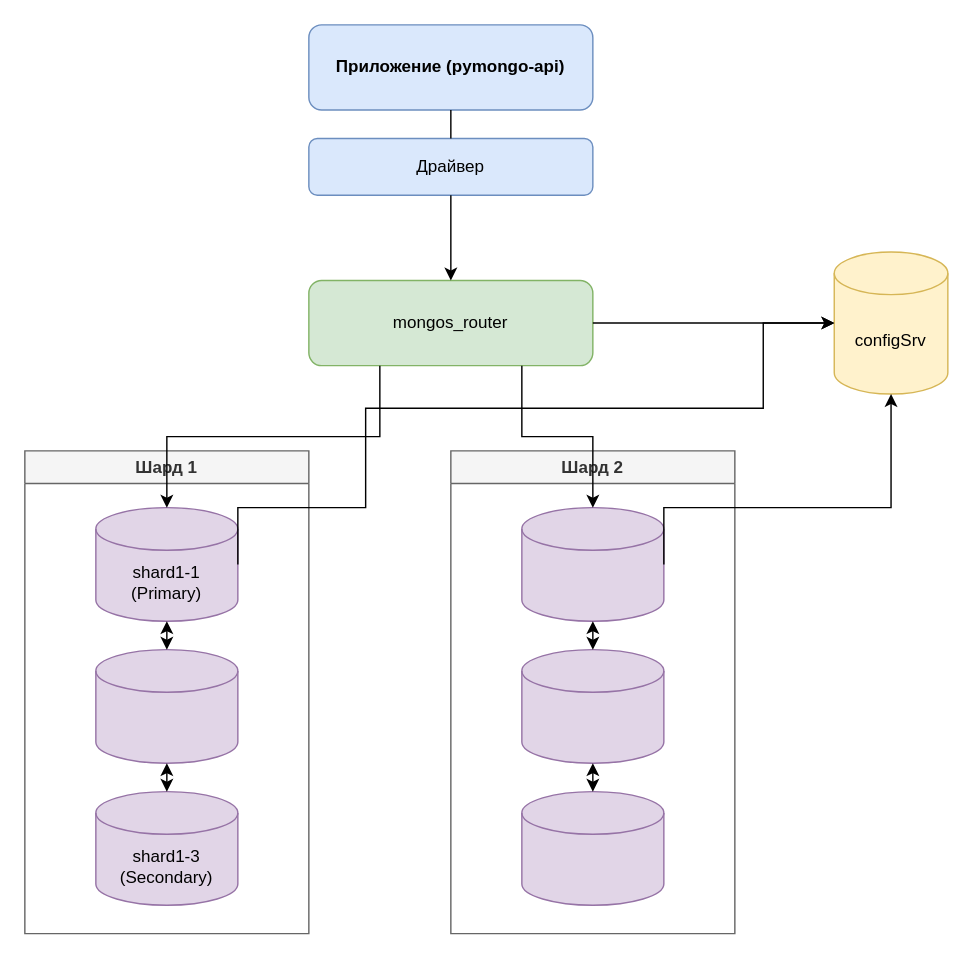
Some shapes in this 973 by 959 pixel diagram are drawn without their labels. The shapes that lost their labels are listed below. From the top down, each one's centre as x and y in pixels, then its label:
(x=592, y=563): shard2-1 (Primary)
(x=166, y=705): shard1-2 (Secondary)
(x=592, y=705): shard2-2 (Secondary)
(x=592, y=847): shard2-3 (Secondary)
